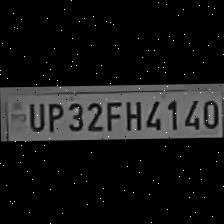0: (198, 97, 220, 130)
1: (162, 96, 178, 132)
2: (84, 99, 103, 132)
3: (63, 99, 83, 132)
4: (142, 96, 162, 130), (180, 96, 200, 130)
F: (102, 98, 120, 132)
H: (121, 96, 141, 130)
P: (44, 99, 64, 133)
U: (24, 100, 44, 132)
